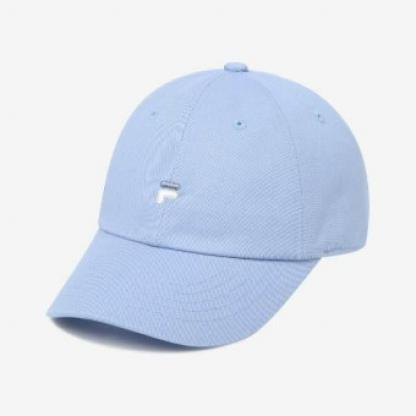cap: (33, 53, 373, 358)
